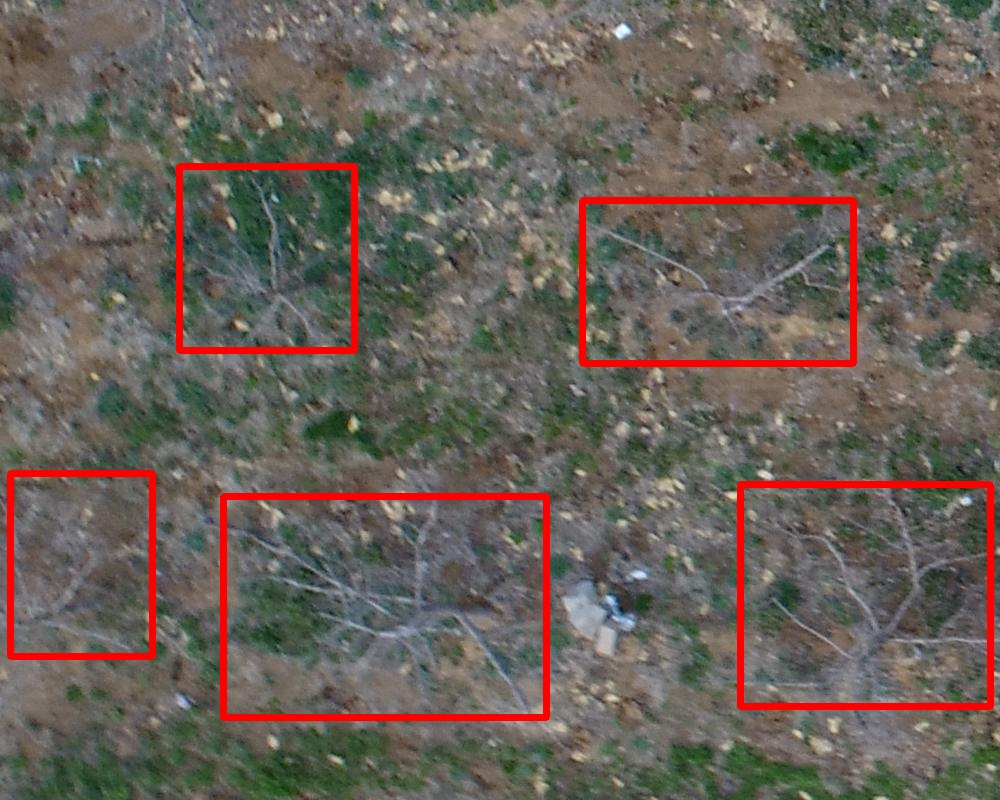apple: (223, 496, 546, 717), (740, 484, 990, 706), (582, 200, 853, 363), (179, 166, 354, 350), (10, 473, 152, 656)
